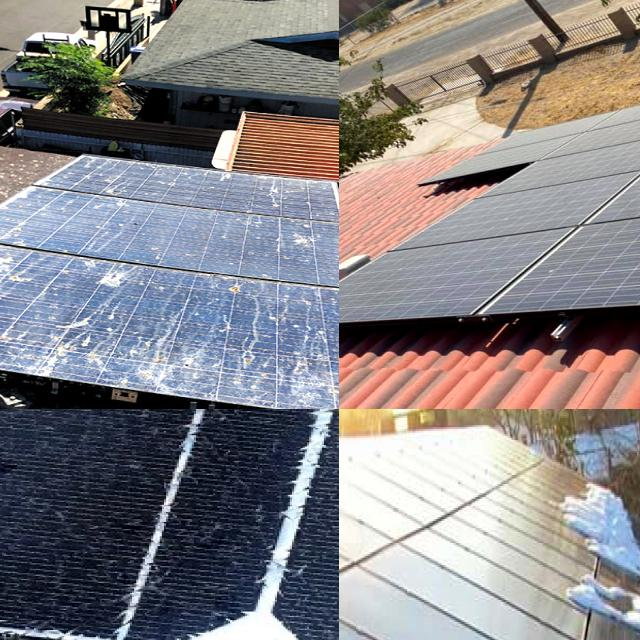bird: (202, 268, 277, 372), (57, 254, 149, 304), (13, 327, 116, 370), (0, 238, 44, 316), (303, 330, 339, 409), (279, 219, 339, 260), (0, 319, 43, 358)
panel: (558, 464, 640, 562), (572, 564, 640, 640)
shadow: (126, 409, 339, 526)
